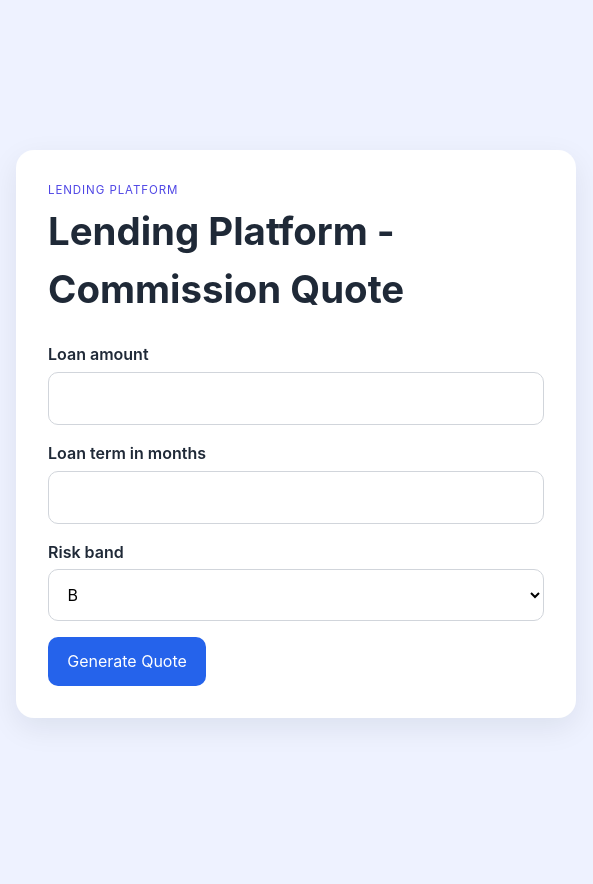
App › shows a successful quote response
Type "100000" into the number field labelled "Loan amount" at (296, 398), box top-left (48, 372), bottom-right (544, 425)
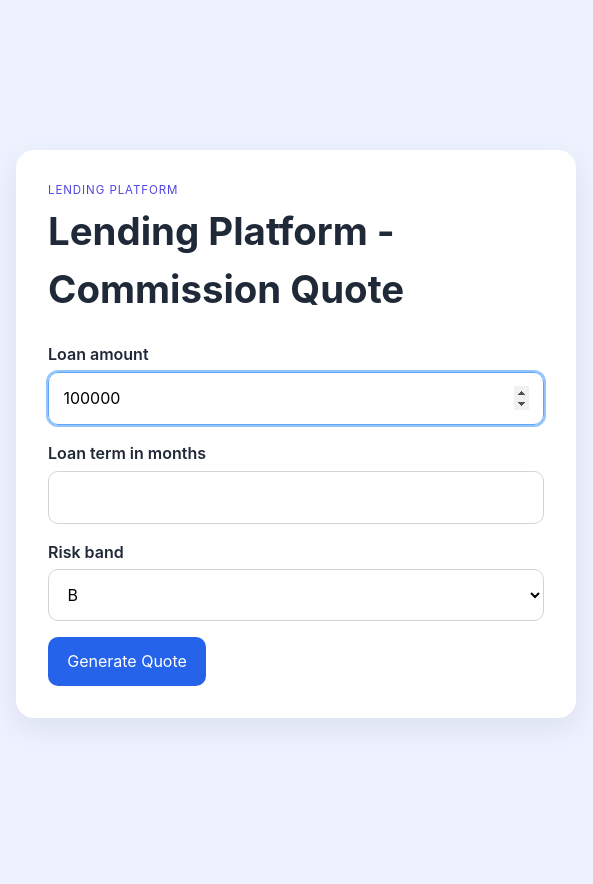
Type "60" into the number field labelled "Loan term in months" at (296, 497), box top-left (48, 471), bottom-right (544, 524)
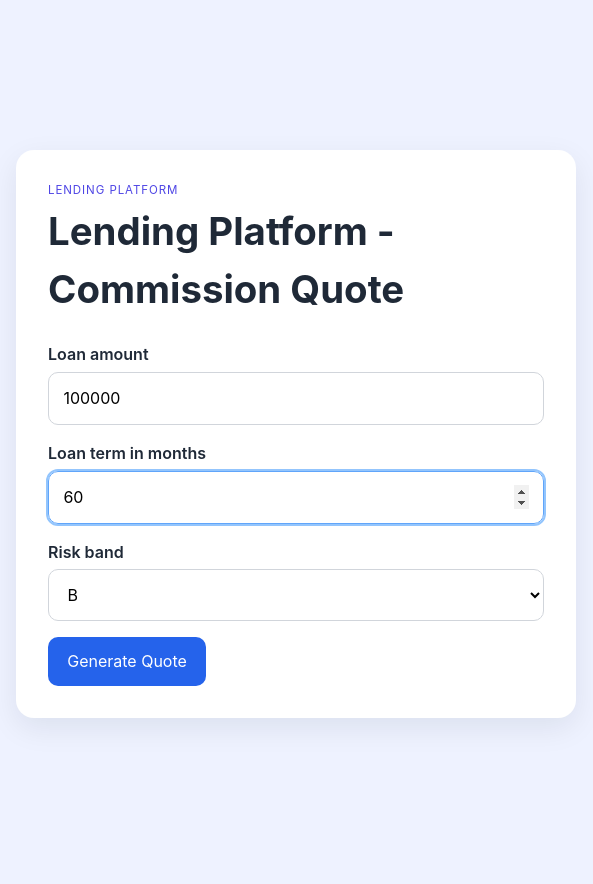
Click the button "Generate Quote" at (127, 661), box top-left (48, 637), bottom-right (206, 686)
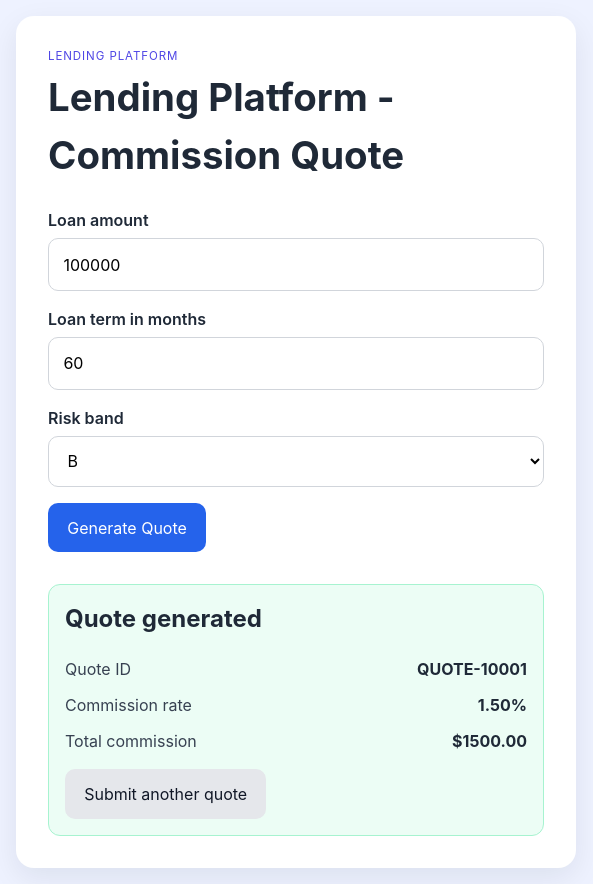
Expected: the heading "Quote generated" is shown, top-left (65, 604), bottom-right (262, 633)
Expected: the text "QUOTE-10001" is shown, top-left (417, 657), bottom-right (527, 681)
